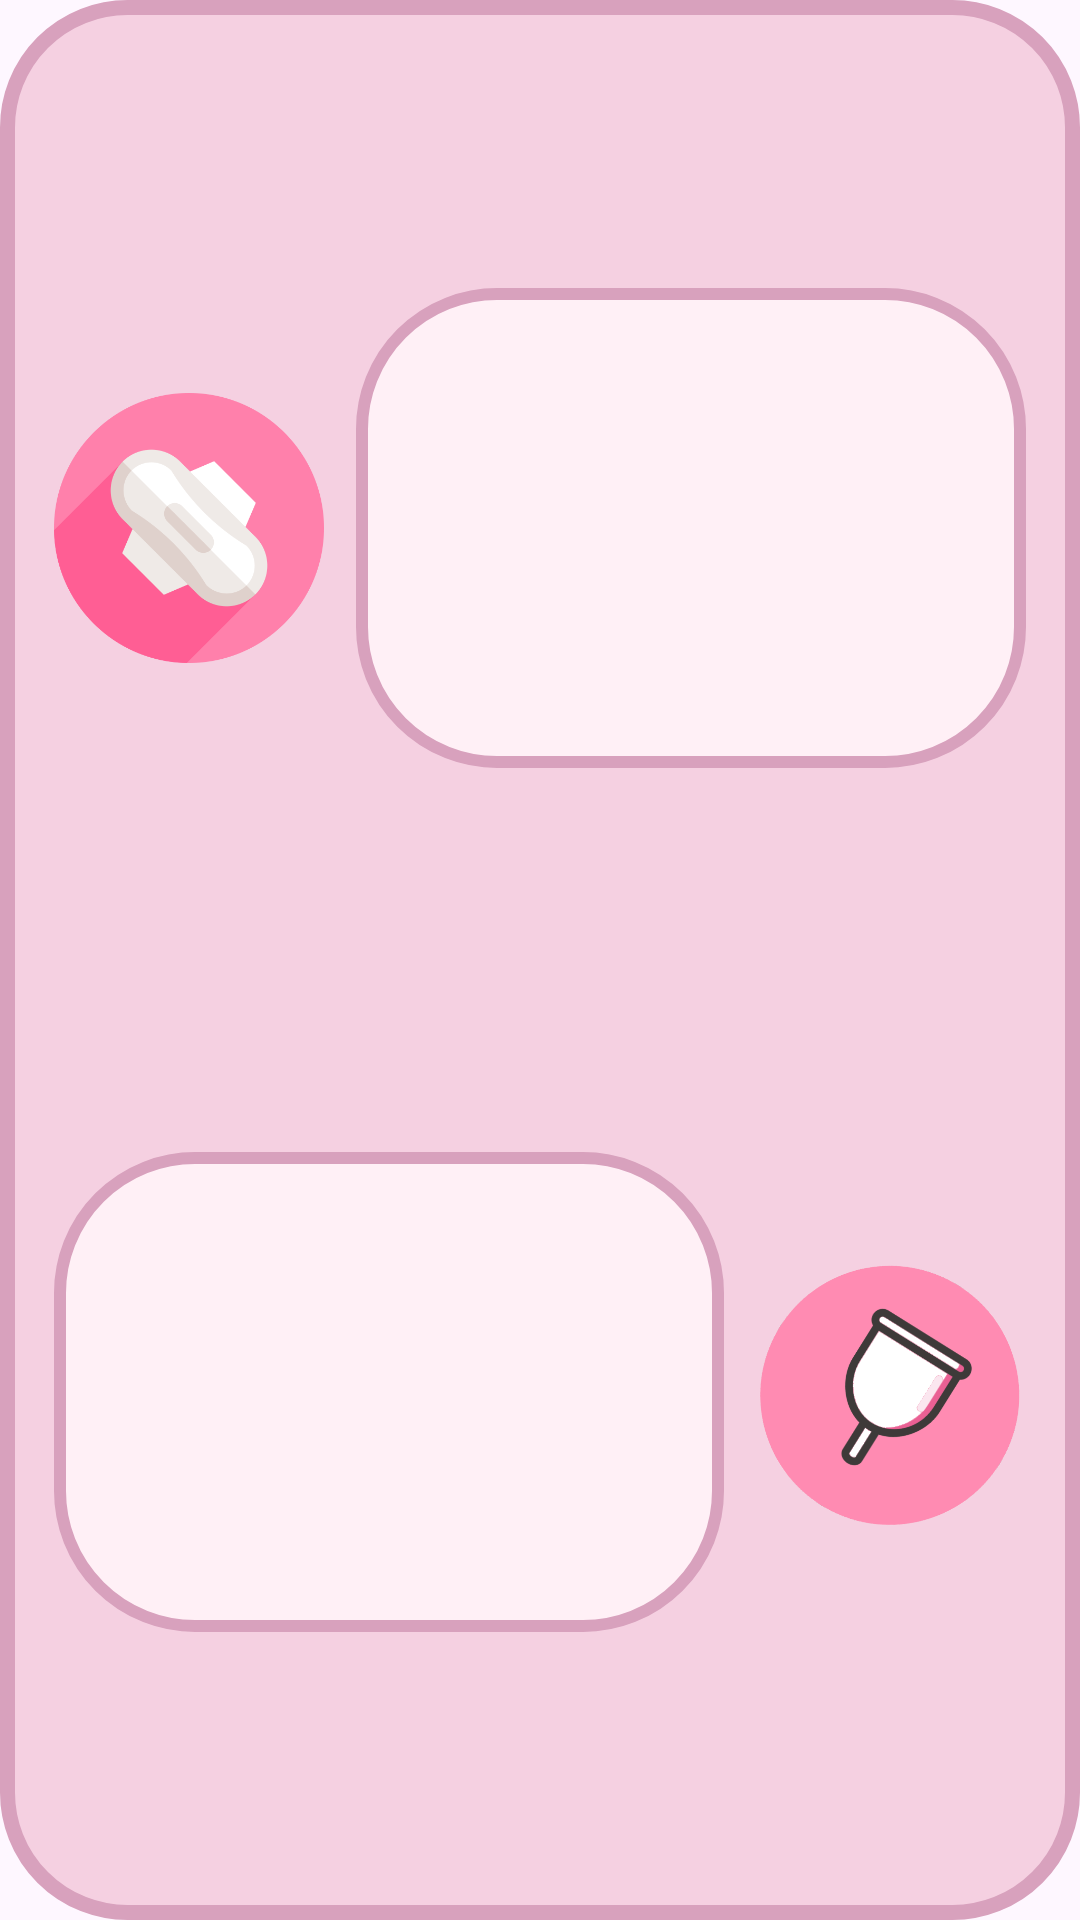

Icons on this 1080x1920 Android screen, each with the point to tap as [x,y]:
menstrualcup: [889,1395]
pad: [189,528]
